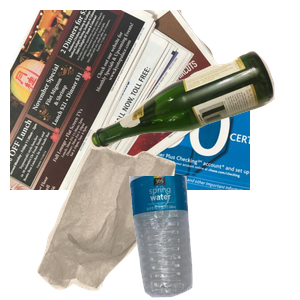glass: (87, 48, 300, 190)
paper: (10, 10, 250, 190)
plastic: (127, 176, 300, 300)
trash: (35, 140, 203, 300)
